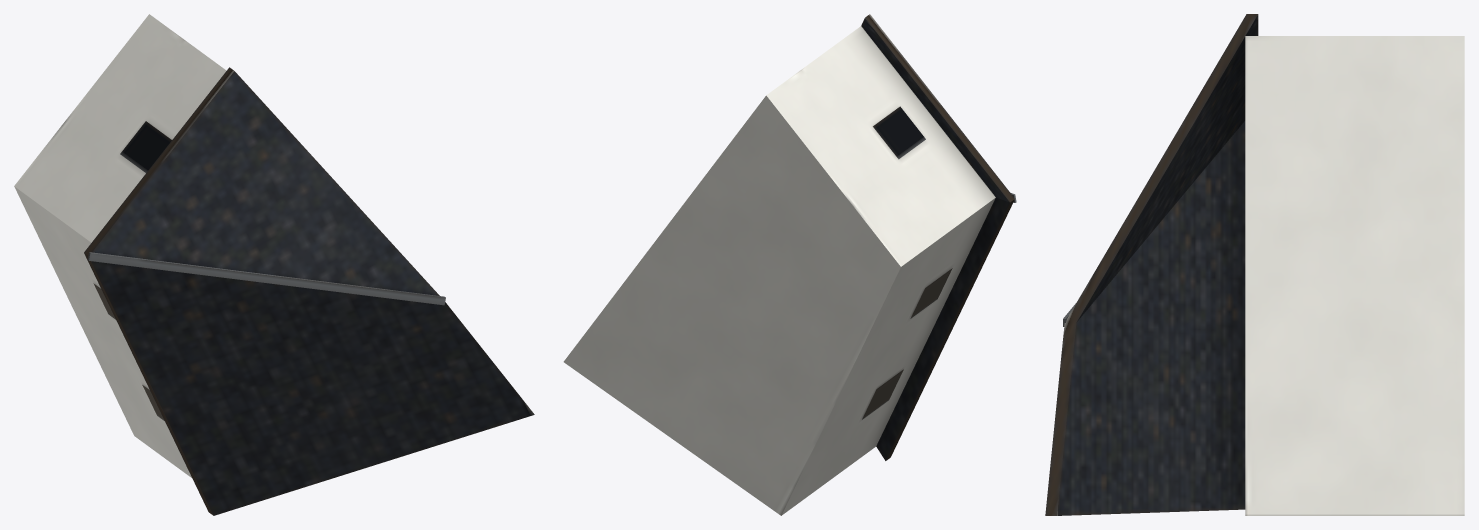
File: house_b0370.obj
The picture shows the model from 3 angles, left to right: view 1: azimuth 30°, elevation 25°; view 2: azimuth 150°, elevation 25°; view 3: azimuth 270°, elevation 25°; orthographic projection. The views are drawn at different scales.
Parts seen in each view (by area): view 1: house_b0370; view 2: house_b0370; view 3: house_b0370.
Boxes of the visible parts, x1,y1,x2,y2 form: house_b0370: (14, 14, 534, 515); house_b0370: (563, 14, 1016, 515); house_b0370: (1045, 14, 1464, 515).
Size of the model in its own units: 9.78 by 11.44 by 8.58.
1 material, 1 textured.
